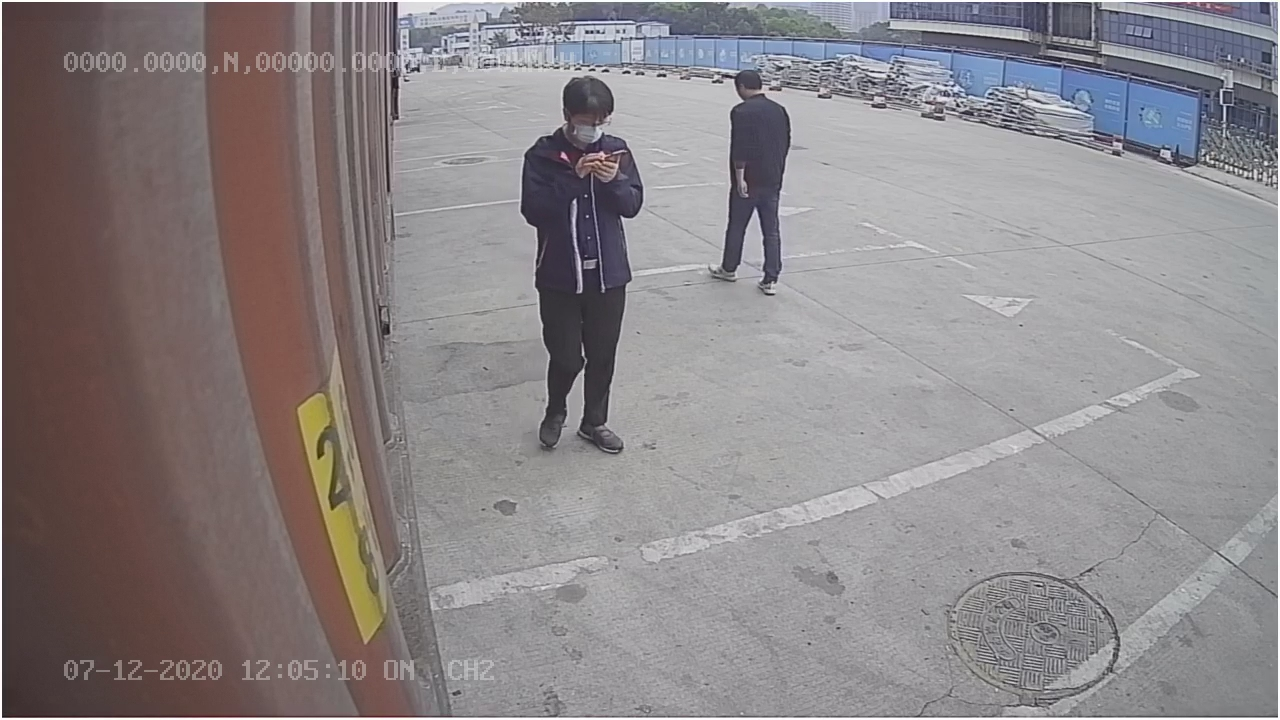person: (514, 76, 644, 462), (703, 63, 797, 295)
